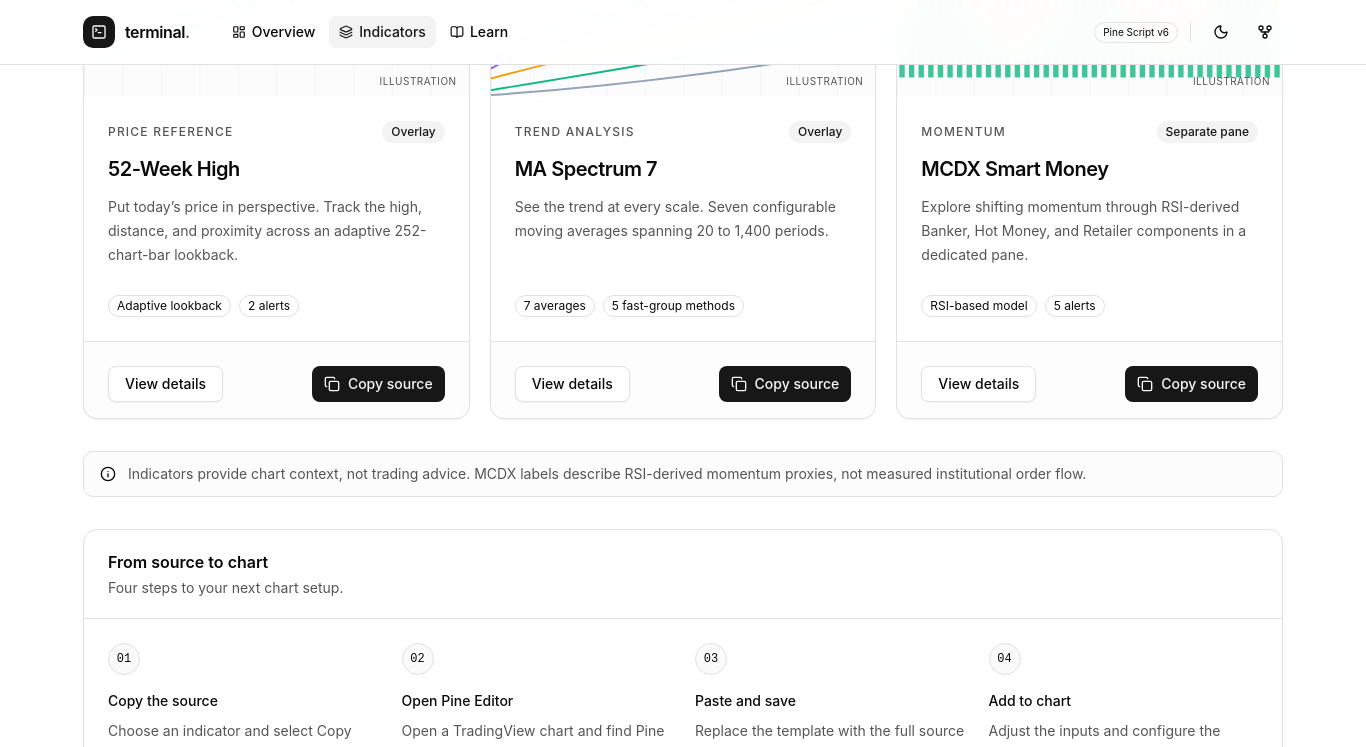
Test: indicator library › does not reopen a dialog if copying fails after navigation
The width and height of the screenshot is (1366, 747).
(page scrolled)
Click the button with aria-label "Copy source for 52-Week High": (378, 384) x1=312 y1=366 x2=445 y2=402
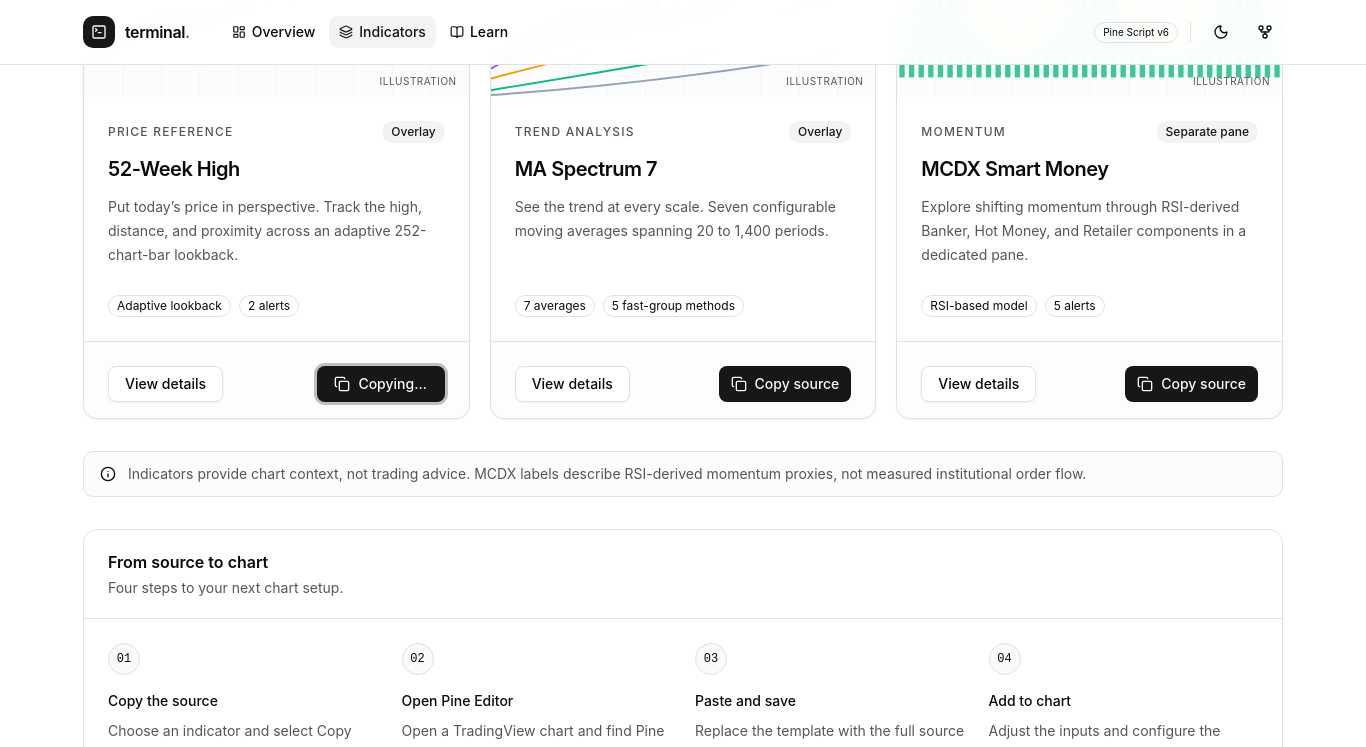
Click the link "Learn": (479, 32) x1=450 y1=23 x2=508 y2=40
(page scrolled)
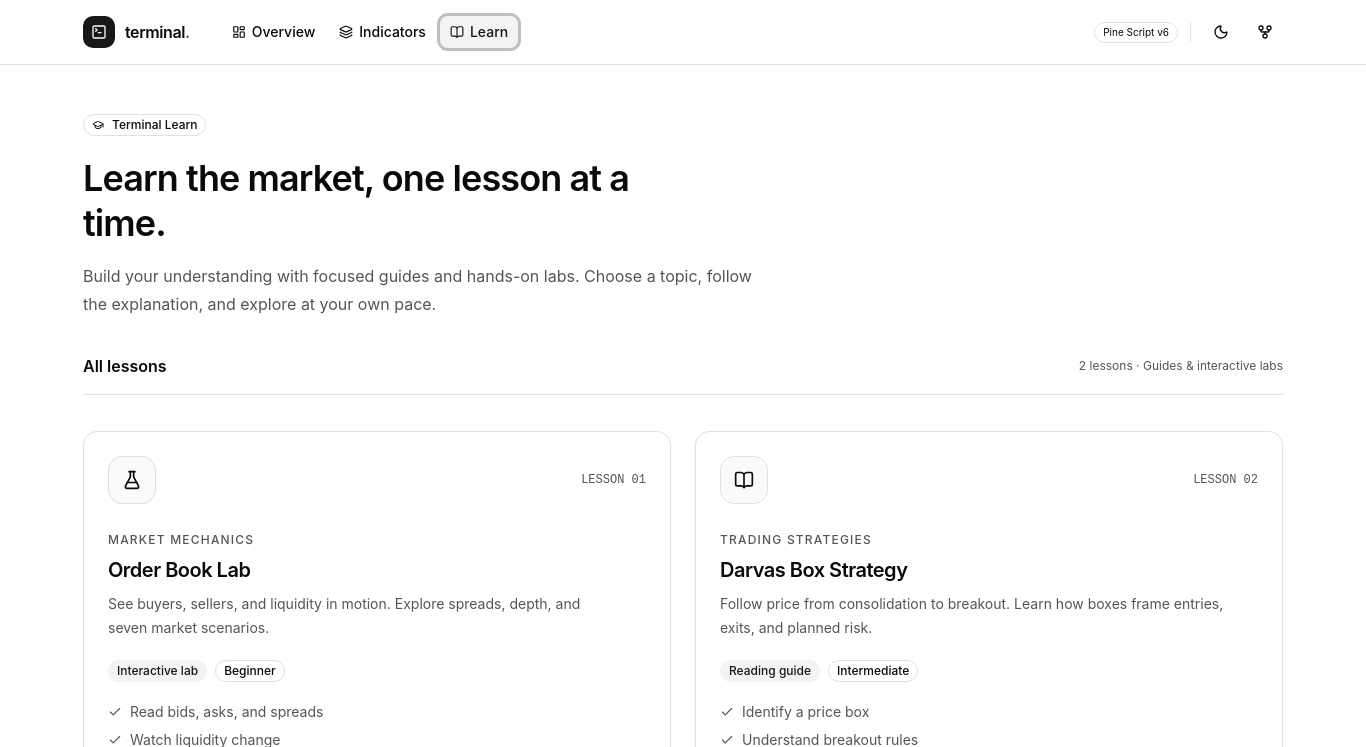
Expected: the heading "Learn the market, one lesson at a time." is shown, x1=83 y1=156 x2=659 y2=246
